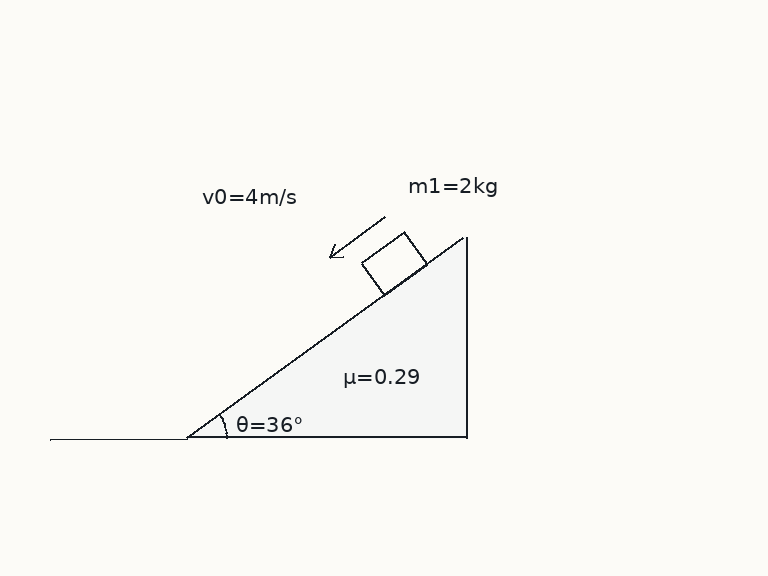block: (359, 230, 429, 297)
ramp: (185, 234, 467, 440)
